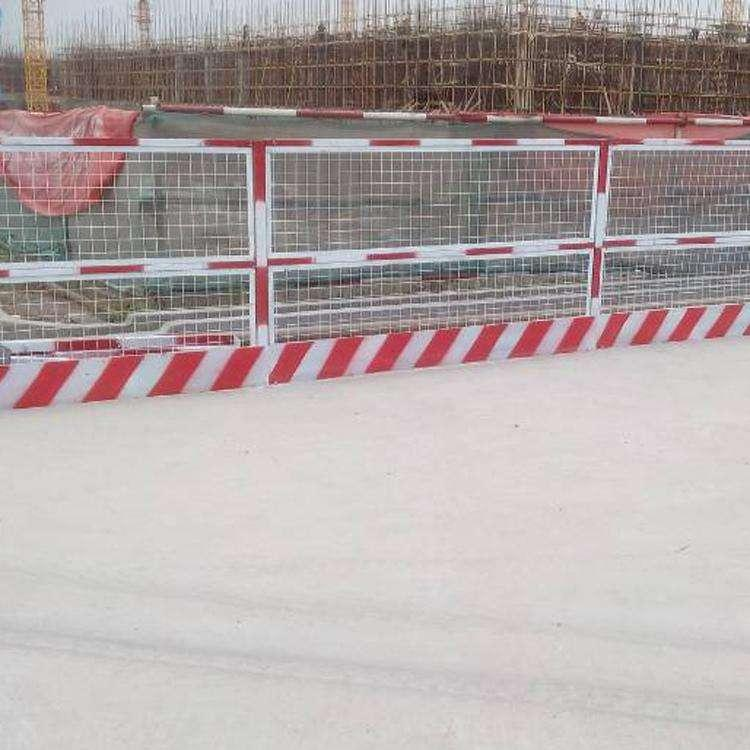sign: (1, 110, 750, 421)
